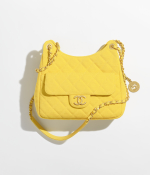channel: (29, 31, 134, 141), (67, 92, 93, 107), (102, 99, 124, 104)
